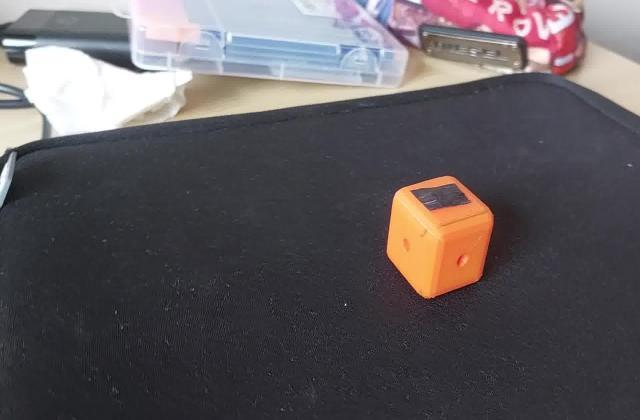black: (411, 181, 469, 214)
cube: (386, 174, 498, 306)
